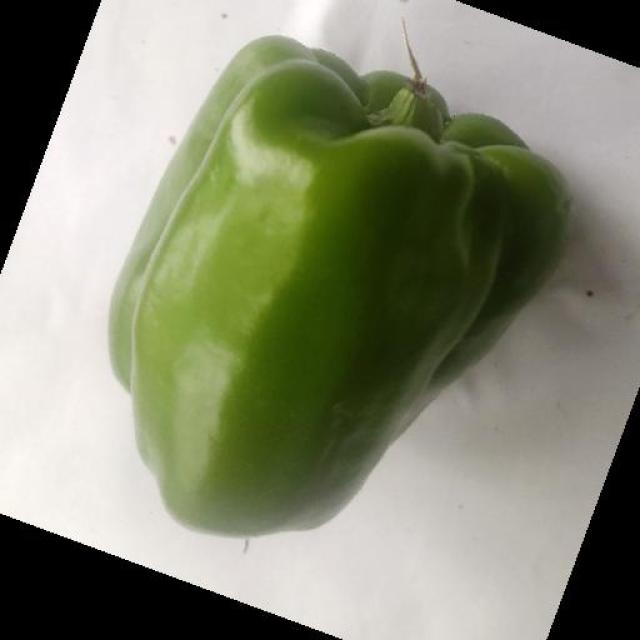Fresh_Capsicum: (113, 40, 556, 553)
